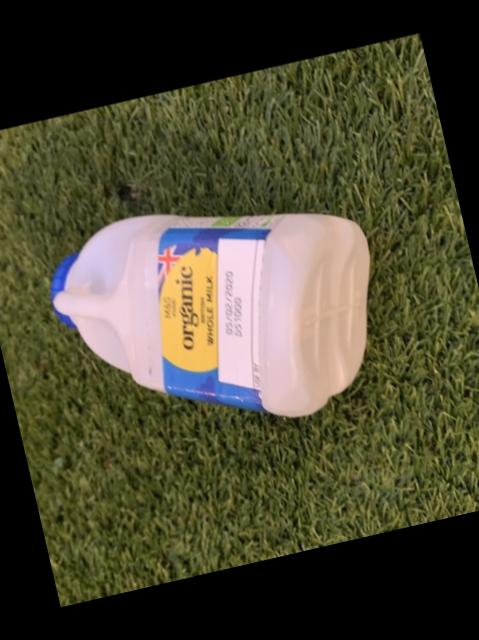plastic: (49, 215, 367, 418)
